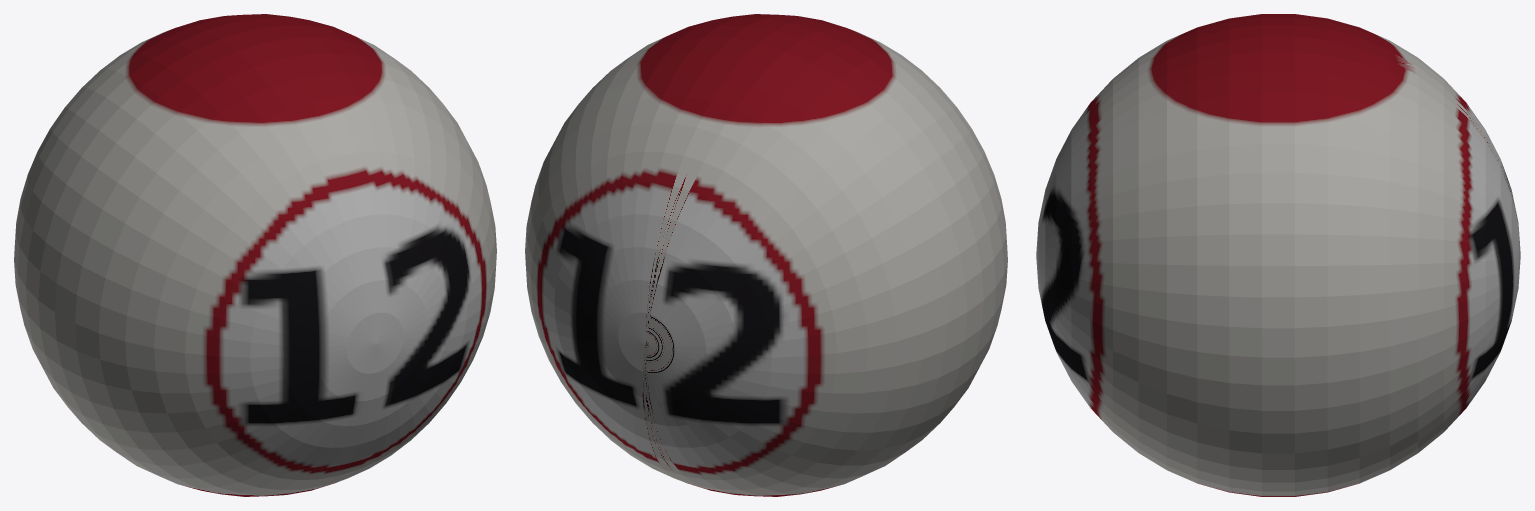
3 views of the same model, side by side, from view 1: azimuth 30°, elevation 25°; view 2: azimuth 150°, elevation 25°; view 3: azimuth 270°, elevation 25° (orthographic).
Parts seen in each view (by area): view 1: geometry_0; view 2: geometry_0; view 3: geometry_0.
Part boxes in pixels (x1,y1,x2,y2): geometry_0: (14,14,496,496); geometry_0: (525,14,1007,496); geometry_0: (1036,14,1520,496).
Bounding box in the file's own units: 0.0599 × 0.0599 × 0.06.
1 material, 1 textured.
